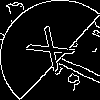X: (25, 25, 85, 80)
